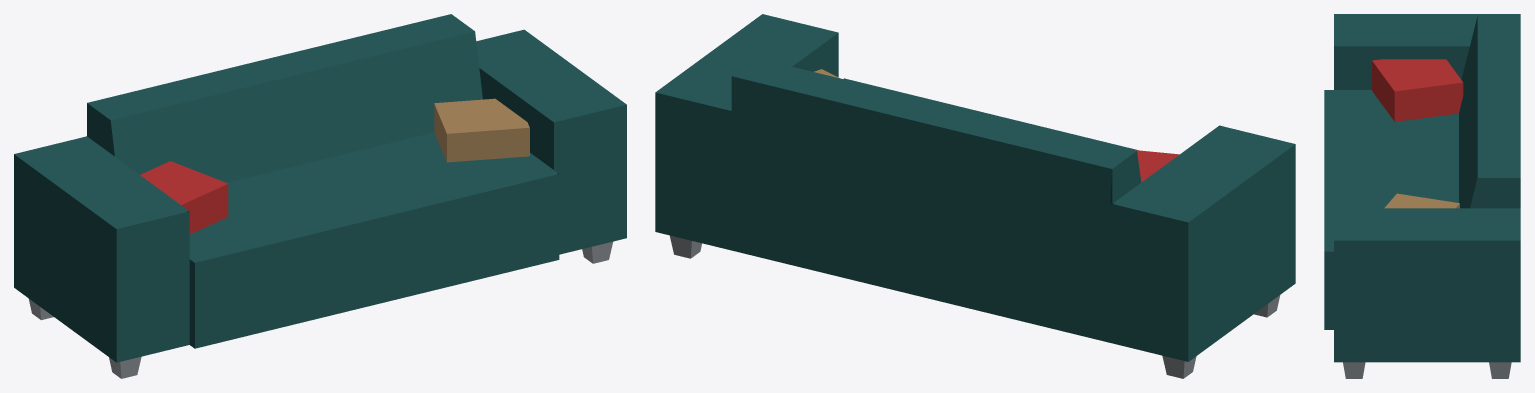
The model's file is loungeDesignSofa.glb.
The picture shows the model from 3 angles, left to right: view 1: azimuth 30°, elevation 25°; view 2: azimuth 150°, elevation 25°; view 3: azimuth 270°, elevation 25°; orthographic projection. The views are drawn at different scales.
Parts seen in each view (by area): view 1: loungeDesignSofa(Clone); view 2: loungeDesignSofa(Clone); view 3: loungeDesignSofa(Clone).
Part boxes in pixels (x1,y1,x2,y2): loungeDesignSofa(Clone): (14, 14, 626, 378); loungeDesignSofa(Clone): (655, 14, 1295, 378); loungeDesignSofa(Clone): (1324, 14, 1520, 378).
Bounding box in the file's own units: 1.12 × 0.4 × 0.41.
